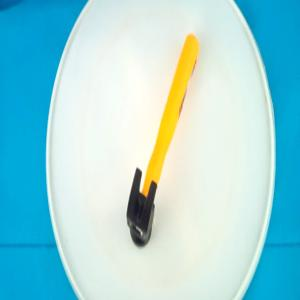martelo: (126, 32, 200, 249)
